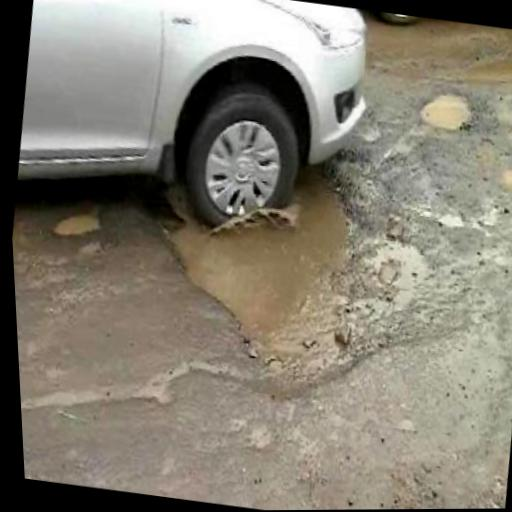pothole: (130, 113, 431, 412), (416, 83, 481, 133), (48, 203, 107, 245), (493, 152, 512, 203)
